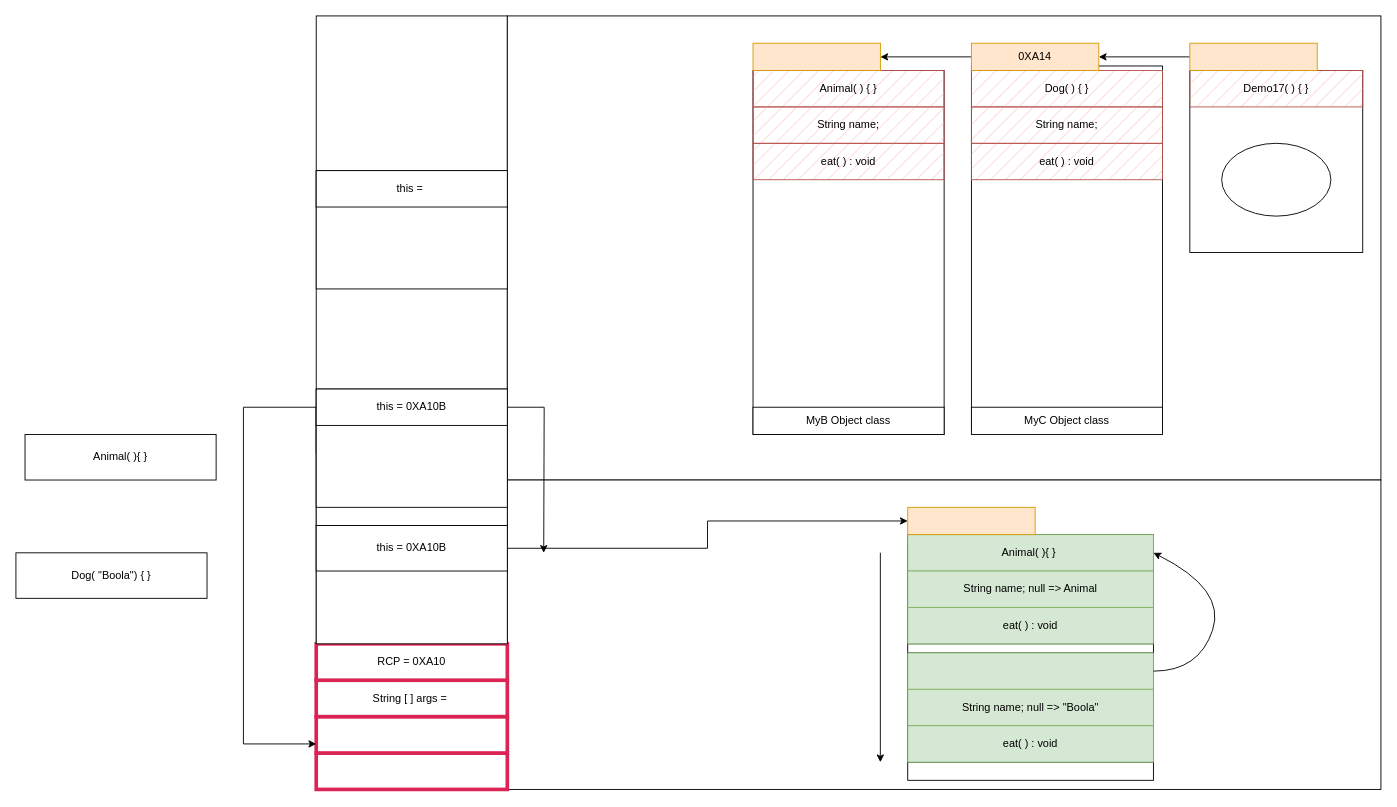
This 1397x807 diagram has some shape labels left out. The box of each missing label's shape, as (x1, y1, x2, y2) in pixels:
0XA10: (1189, 42, 1317, 71)
0XA10B: (907, 506, 1035, 535)
0XA16: (752, 42, 880, 71)
Animal pet =: (314, 714, 509, 754)
Dog( ){ }: (907, 652, 1153, 689)
PSVM: (1221, 142, 1331, 216)
